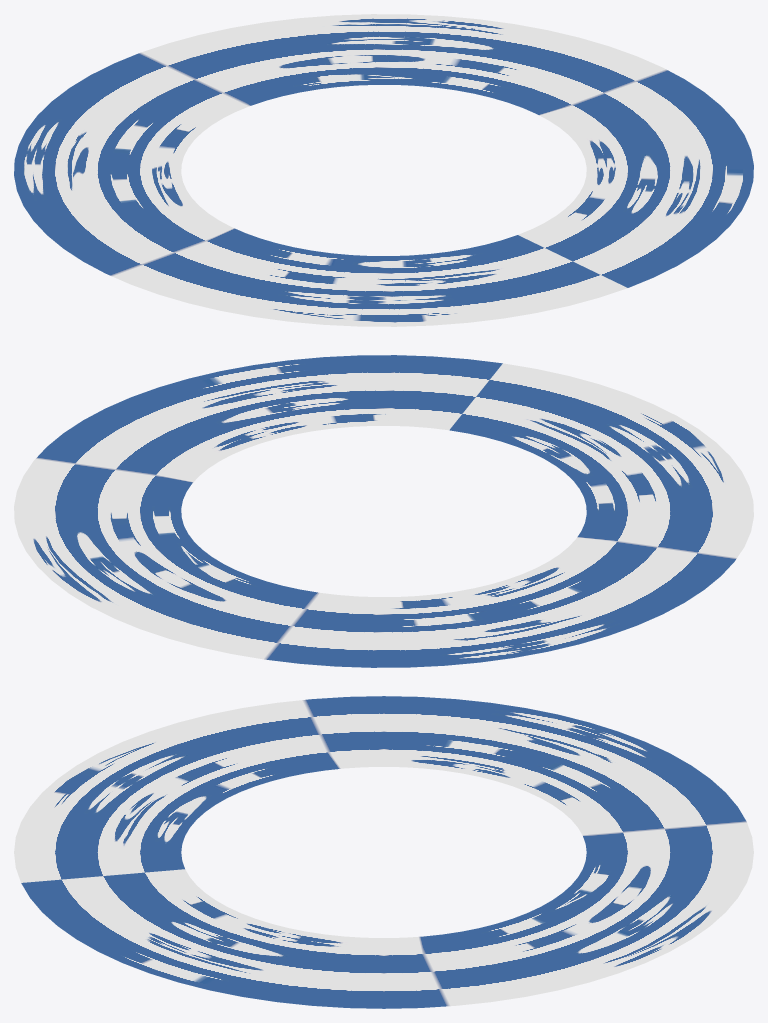
Rendered from Rui_Spl_Circle01.fbx.
3 renders of one model, top to bottom at view 1: azimuth 30°, elevation 25°; view 2: azimuth 150°, elevation 25°; view 3: azimuth 270°, elevation 25°, orthographic.
Parts seen in each view (by area): view 1: SM_d_e_P1007_V00_C00_SplKrt_Circle_01; view 2: SM_d_e_P1007_V00_C00_SplKrt_Circle_01; view 3: SM_d_e_P1007_V00_C00_SplKrt_Circle_01.
Boxes of the visible parts, bbox=[...] form: SM_d_e_P1007_V00_C00_SplKrt_Circle_01: bbox=[14, 14, 753, 326]; SM_d_e_P1007_V00_C00_SplKrt_Circle_01: bbox=[14, 355, 753, 667]; SM_d_e_P1007_V00_C00_SplKrt_Circle_01: bbox=[14, 696, 753, 1008].
Bounding box in the file's own units: 40 × 4.9e-15 × 40.
